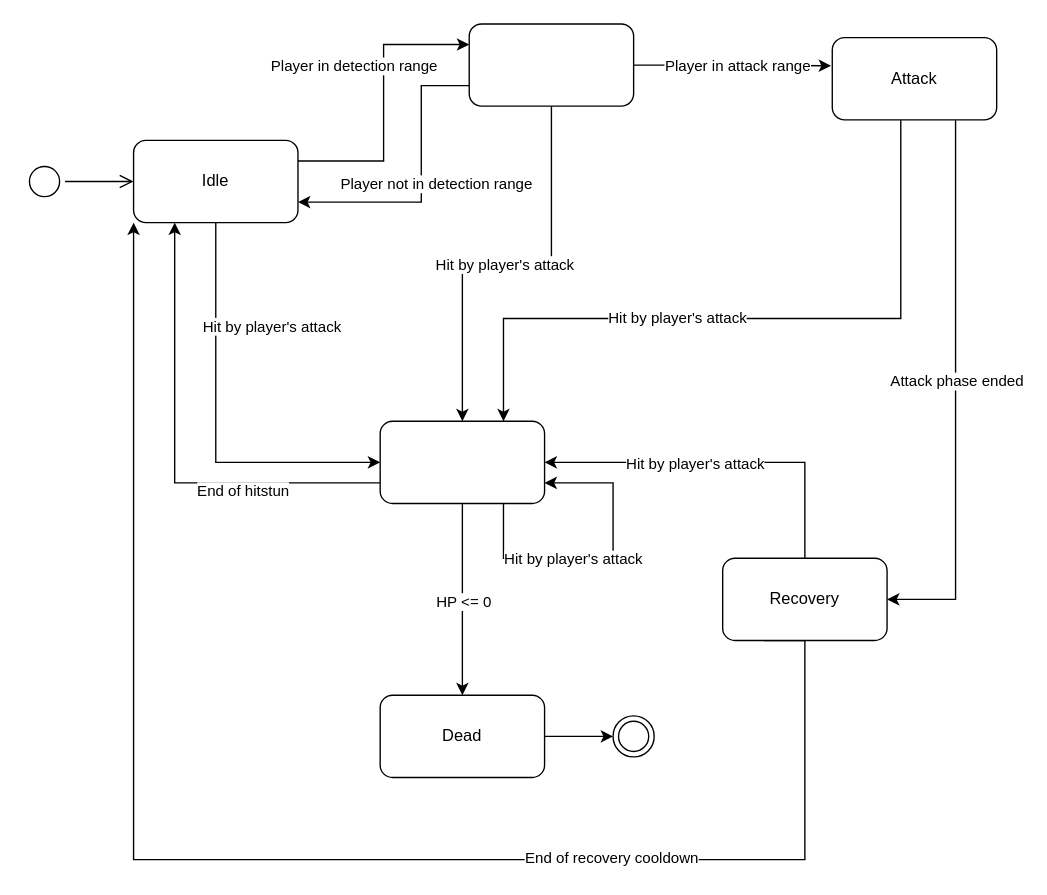
The diagram is 1047 pixels wide and 895 high, and some of its shapes have lost their labels. Each missing label, with the centre of its shape:
Chase: the point at 551,64
Hitstun: the point at 462,461
